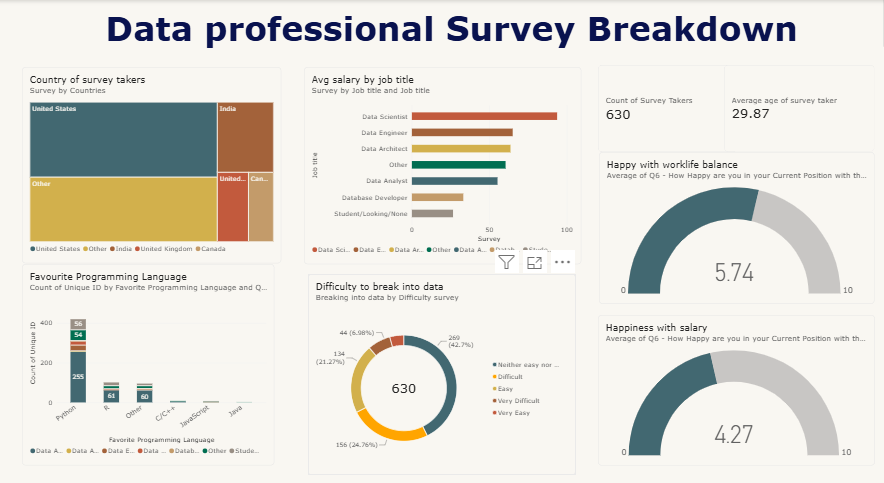

Layout of this report page (visuals, bound fields, positions):
{"tool":"powerbi","page":{"name":"Page 1","canvas":[1920,1080],"ordinal":0},"visuals":[{"type":"textbox","box":[10,0,1910,110],"z":0},{"type":"cardVisual","fields":{"Data":["CountNonNull(Data Professional Survey.Unique ID)"]},"box":[1295,140,300,188],"z":1000},{"type":"cardVisual","fields":{"Data":["Avg(Data Professional Survey.Q10 - Current Age)"]},"box":[1567.5,140,325,187.5],"z":2000},{"type":"barChart","title":" Avg salary by job title","fields":{"Category":["Data Professional Survey.Q1 - Which Title Best Fits your Current Role?.1"],"Series":["Data Professional Survey.Q1 - Which Title Best Fits your Current Role?.1"],"Y":["Avg(Data Professional Survey.Avg salary)"]},"box":[660,145.7,598.6,425.7],"z":3000},{"type":"columnChart","title":"Favourite Programming Language","fields":{"Category":["Data Professional Survey.Q5 - Favorite Programming Language.1"],"Series":["Data Professional Survey.Q1 - Which Title Best Fits your Current Role?.1"],"Y":["CountNonNull(Data Professional Survey.Unique ID)"]},"box":[52.5,570,545,435],"z":4000},{"type":"gauge","title":"Happy with worklife balance","fields":{"MaxValue":["Max(Data Professional Survey.Q6 - How Happy are you in your Current Position with the following? (Work/Life Balance))1"],"MinValue":["Min(Data Professional Survey.Q6 - How Happy are you in your Current Position with the following? (Work/Life Balance))"],"Y":["Avg(Data Professional Survey.Q6 - How Happy are you in your Current Position with the following? (Work/Life Balance))"]},"box":[1297.5,327.5,595,327.5],"z":5000},{"type":"treemap","title":"Country of survey takers","fields":{"Group":["Data Professional Survey.Q11 - Which Country do you live in?.1"],"Values":["CountNonNull(Data Professional Survey.Q11 - Which Country do you live in?.1)"]},"box":[52.5,145,560,424],"z":6000},{"type":"gauge","title":"Happiness with salary","fields":{"MaxValue":["Max(Data Professional Survey.Q6 - How Happy are you in your Current Position with the following? (Salary))"],"MinValue":["Min(Data Professional Survey.Q6 - How Happy are you in your Current Position with the following? (Salary))"],"Y":["Avg(Data Professional Survey.Q6 - How Happy are you in your Current Position with the following? (Salary))"]},"box":[1295,680,597.5,325],"z":7000},{"type":"donutChart","title":"Difficulty to break into data","fields":{"Category":["Data Professional Survey.Q7 - How difficult was it for you to break into Data?"],"Y":["CountNonNull(Data Professional Survey.Q7 - How difficult was it for you to break into Data?)"]},"box":[670,592.5,578,434],"z":8000}]}

Visuals, with their boxes in screenshot pixels (x1, y1, x2, y2), scaled from the page's 1920x1080 canvas onto the 884x483 screenshot:
textbox: select_region(5, 0, 883, 49)
cardVisual - CountNonNull(Data Professional Survey.Unique ID): select_region(596, 63, 734, 147)
cardVisual - Avg(Data Professional Survey.Q10 - Current Age): select_region(722, 63, 871, 146)
" Avg salary by job title" barChart: select_region(304, 65, 579, 256)
"Favourite Programming Language" columnChart: select_region(24, 255, 275, 449)
"Happy with worklife balance" gauge: select_region(597, 146, 871, 293)
"Country of survey takers" treemap: select_region(24, 65, 282, 254)
"Happiness with salary" gauge: select_region(596, 304, 871, 449)
"Difficulty to break into data" donutChart: select_region(308, 265, 575, 459)
